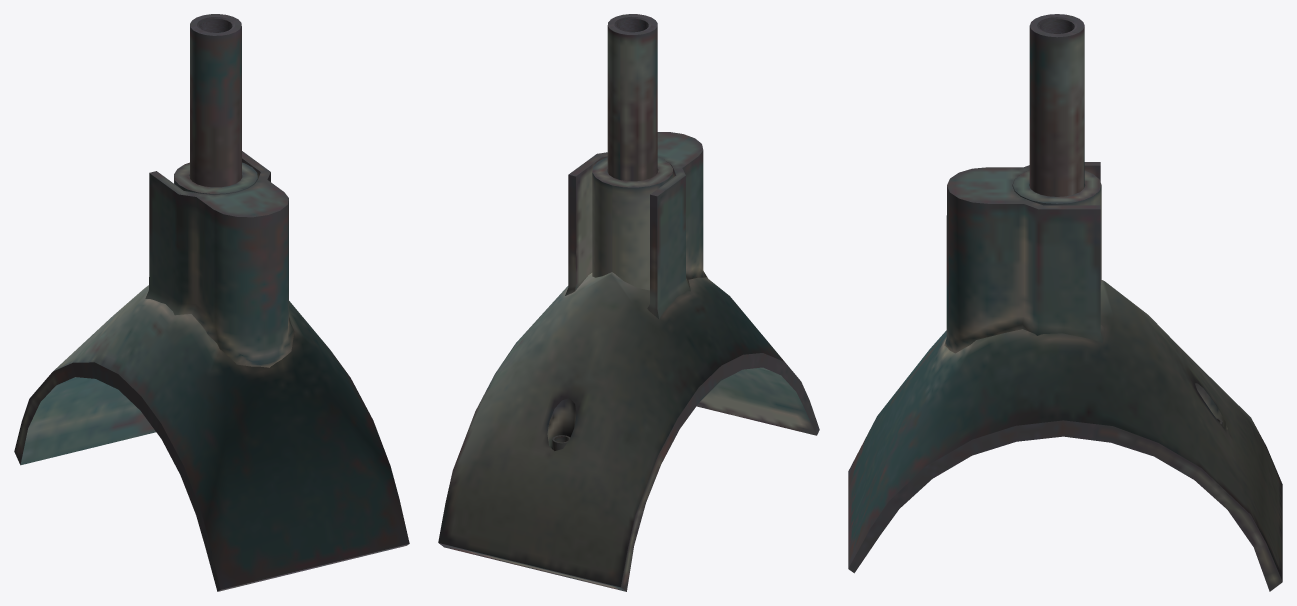
The model's file is Gun_01.glb.
The picture shows the model from 3 angles, left to right: view 1: azimuth 30°, elevation 25°; view 2: azimuth 150°, elevation 25°; view 3: azimuth 270°, elevation 25°; orthographic projection. The views are drawn at different scales.
Parts seen in each view (by area): view 1: set_0_group_0; view 2: set_0_group_0; view 3: set_0_group_0.
Part boxes in pixels (x1,y1,x2,y2): set_0_group_0: (14, 14, 409, 591); set_0_group_0: (438, 14, 819, 591); set_0_group_0: (848, 14, 1282, 591).
Size of the model in its own units: 0.3061 by 0.759 by 0.5775.
Materials: 1 (1 with a texture image).
